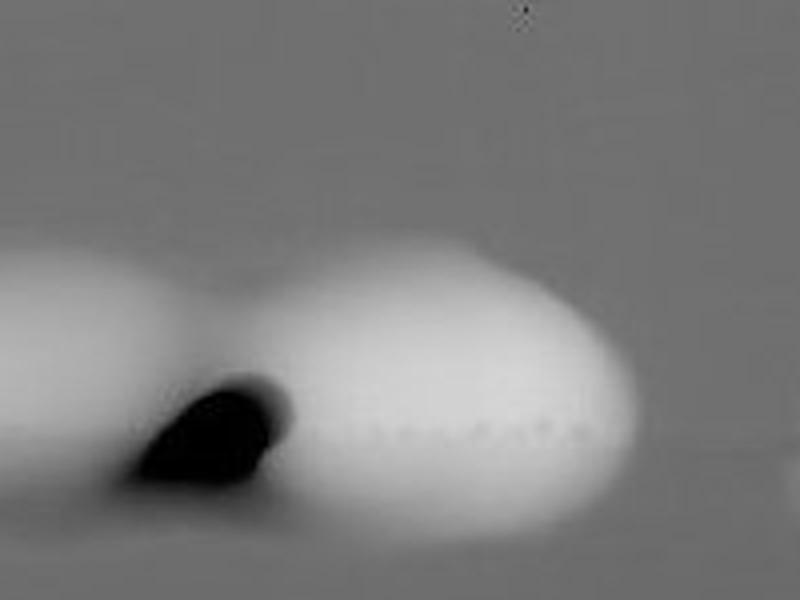defect: (136, 381, 279, 489), (520, 6, 533, 17)
